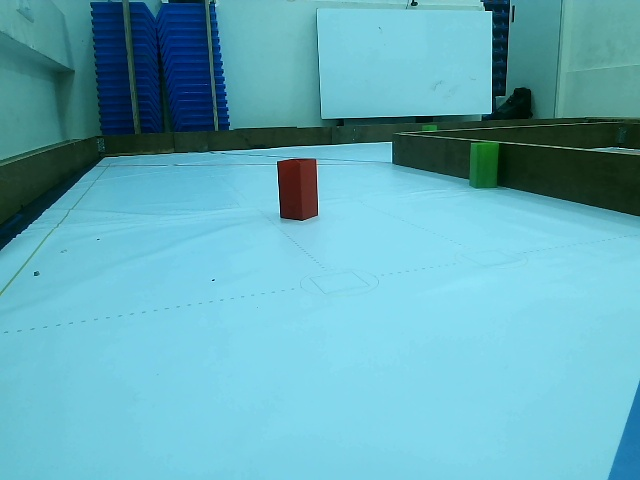red: (278, 158, 319, 216)
